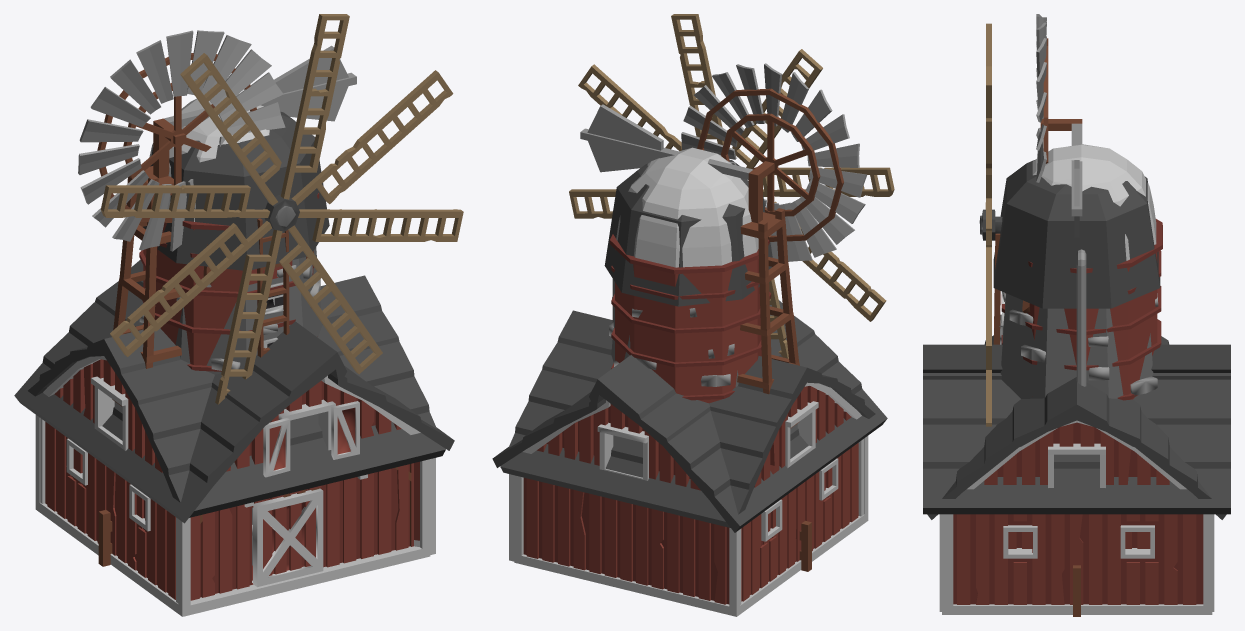
Rendered from core.glb.
3 renders of one model, left to right at view 1: azimuth 30°, elevation 25°; view 2: azimuth 150°, elevation 25°; view 3: azimuth 270°, elevation 25°, orthographic. The views are drawn at different scales.
Visible parts, largest first — view 1: small_barn_body, open_barn_body, tower_mill_blades, windpump_blades, tower_mill_body, silo_body, windpump_body; view 2: open_barn_body, small_barn_body, silo_body, windpump_blades, tower_mill_blades, windpump_body, tower_mill_body; view 3: small_barn_body, tower_mill_body, open_barn_body, silo_body, tower_mill_blades, windpump_blades, windpump_body.
Boxes of the visible parts, x1,y1,x2,y2 form: small_barn_body: (14, 259, 454, 603); open_barn_body: (28, 275, 445, 616); tower_mill_blades: (100, 14, 463, 404); windpump_blades: (78, 30, 285, 251); tower_mill_body: (139, 111, 329, 565); silo_body: (139, 94, 319, 371); windpump_body: (112, 45, 356, 406); open_barn_body: (500, 310, 875, 616); small_barn_body: (492, 300, 887, 604); silo_body: (609, 147, 771, 403); windpump_blades: (681, 63, 866, 261); tower_mill_blades: (569, 14, 894, 358); windpump_body: (580, 104, 799, 428); tower_mill_body: (604, 159, 772, 386); small_barn_body: (923, 344, 1230, 614); tower_mill_body: (979, 160, 1160, 398); open_barn_body: (927, 335, 1226, 611); silo_body: (993, 144, 1162, 400); tower_mill_blades: (985, 23, 991, 426); windpump_blades: (1036, 14, 1048, 182); windpump_body: (1040, 119, 1082, 237).
Size of the model in its own units: 7.92 by 11.48 by 6.27.
